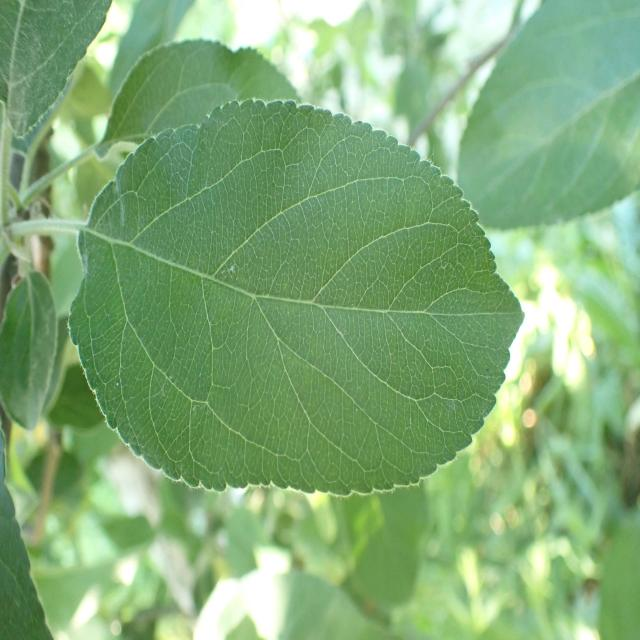healthy: (68, 98, 526, 498), (456, 0, 640, 232), (100, 38, 300, 150), (0, 0, 112, 140), (0, 268, 65, 431)
